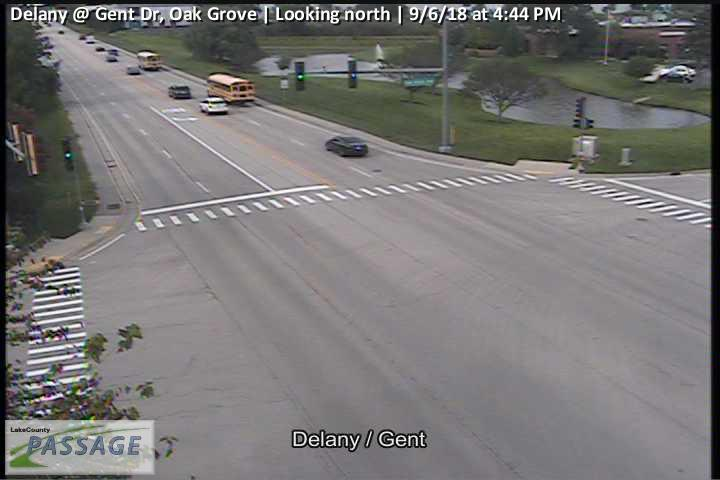Bus: (207, 72, 255, 103), (135, 51, 162, 71)
SUV: (199, 97, 228, 114), (167, 85, 191, 98)
Sedan: (325, 135, 369, 157)
